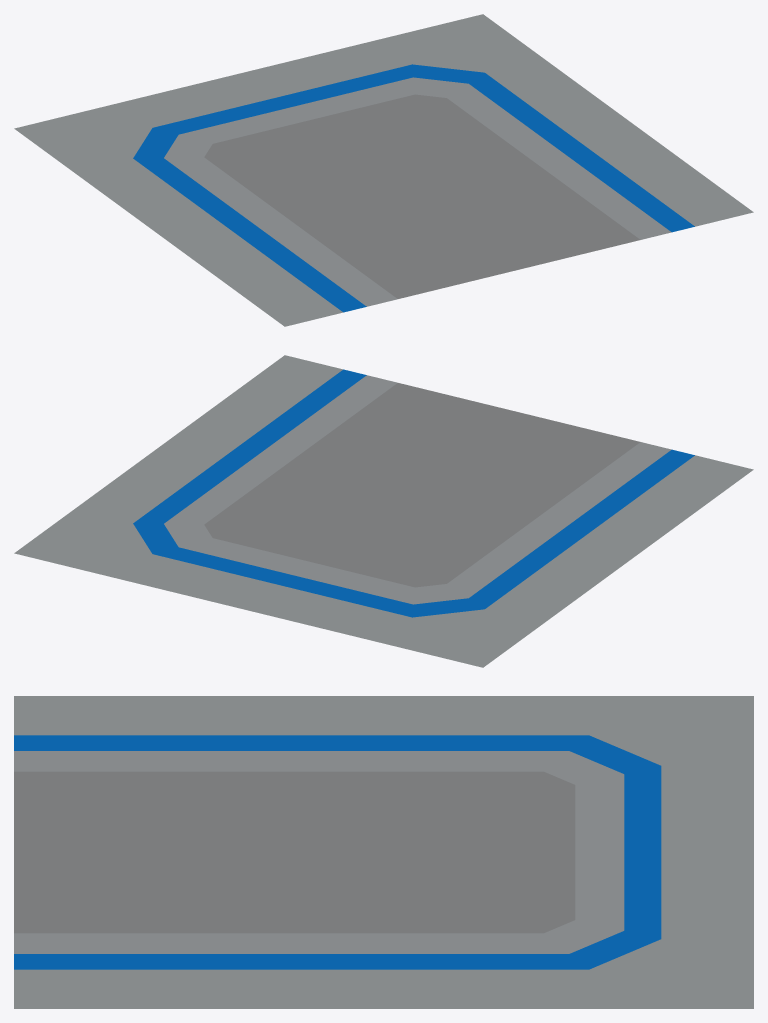
Rendered from Ceiling_type_B_005.fbx.
3 views of the same model, one above another, from view 1: azimuth 30°, elevation 25°; view 2: azimuth 150°, elevation 25°; view 3: azimuth 270°, elevation 25° (orthographic). The views are drawn at different scales.
Visible parts, largest first — view 1: Ceiling_type_B_005; view 2: Ceiling_type_B_005; view 3: Ceiling_type_B_005.
Boxes of the visible parts, x1,y1,x2,y2 form: Ceiling_type_B_005: (14,14,753,326); Ceiling_type_B_005: (14,355,753,667); Ceiling_type_B_005: (14,696,753,1008).
Bounding box in the file's own units: 400 × 400 × 4.55.
